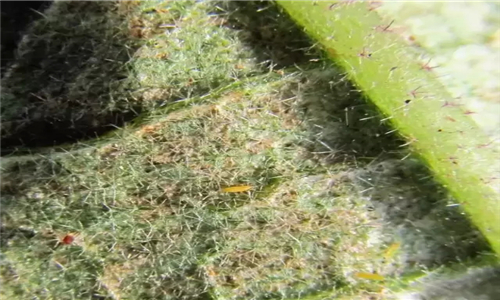thrips: (218, 185, 254, 193)
